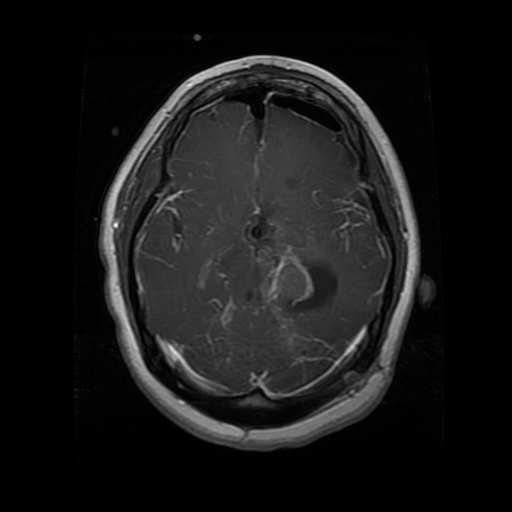glioma: (238, 195, 342, 317)
